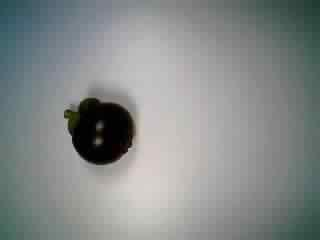mangosteen: (59, 86, 134, 170)
